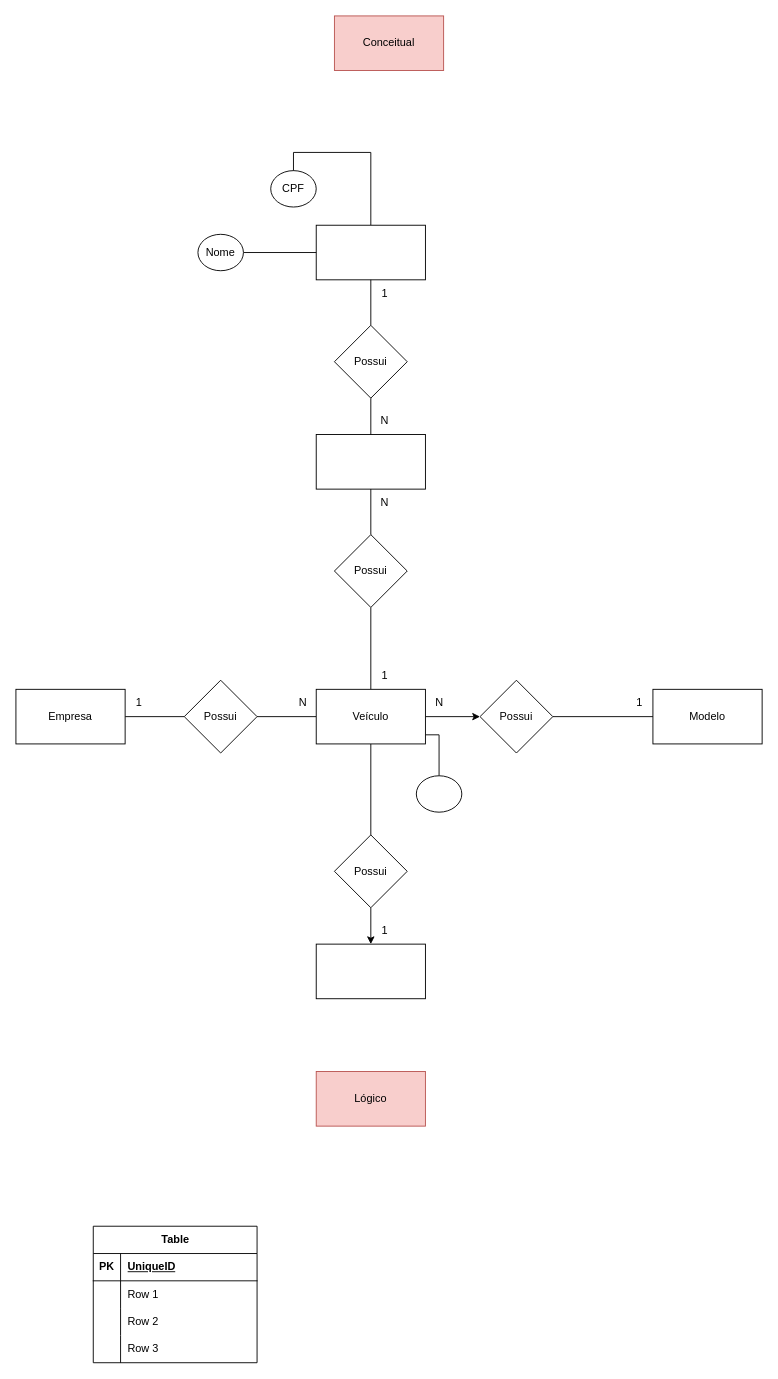
Image size: 778x1379. Some labels were removed from this diagram. Here are the shapes that lost their labels. From the top down, the centre of each, then its label:
At point 370,252: "Cliente".
At point 370,461: "Aluguel".
At point 438,793: "Placa".
At point 370,971: "Marca".
